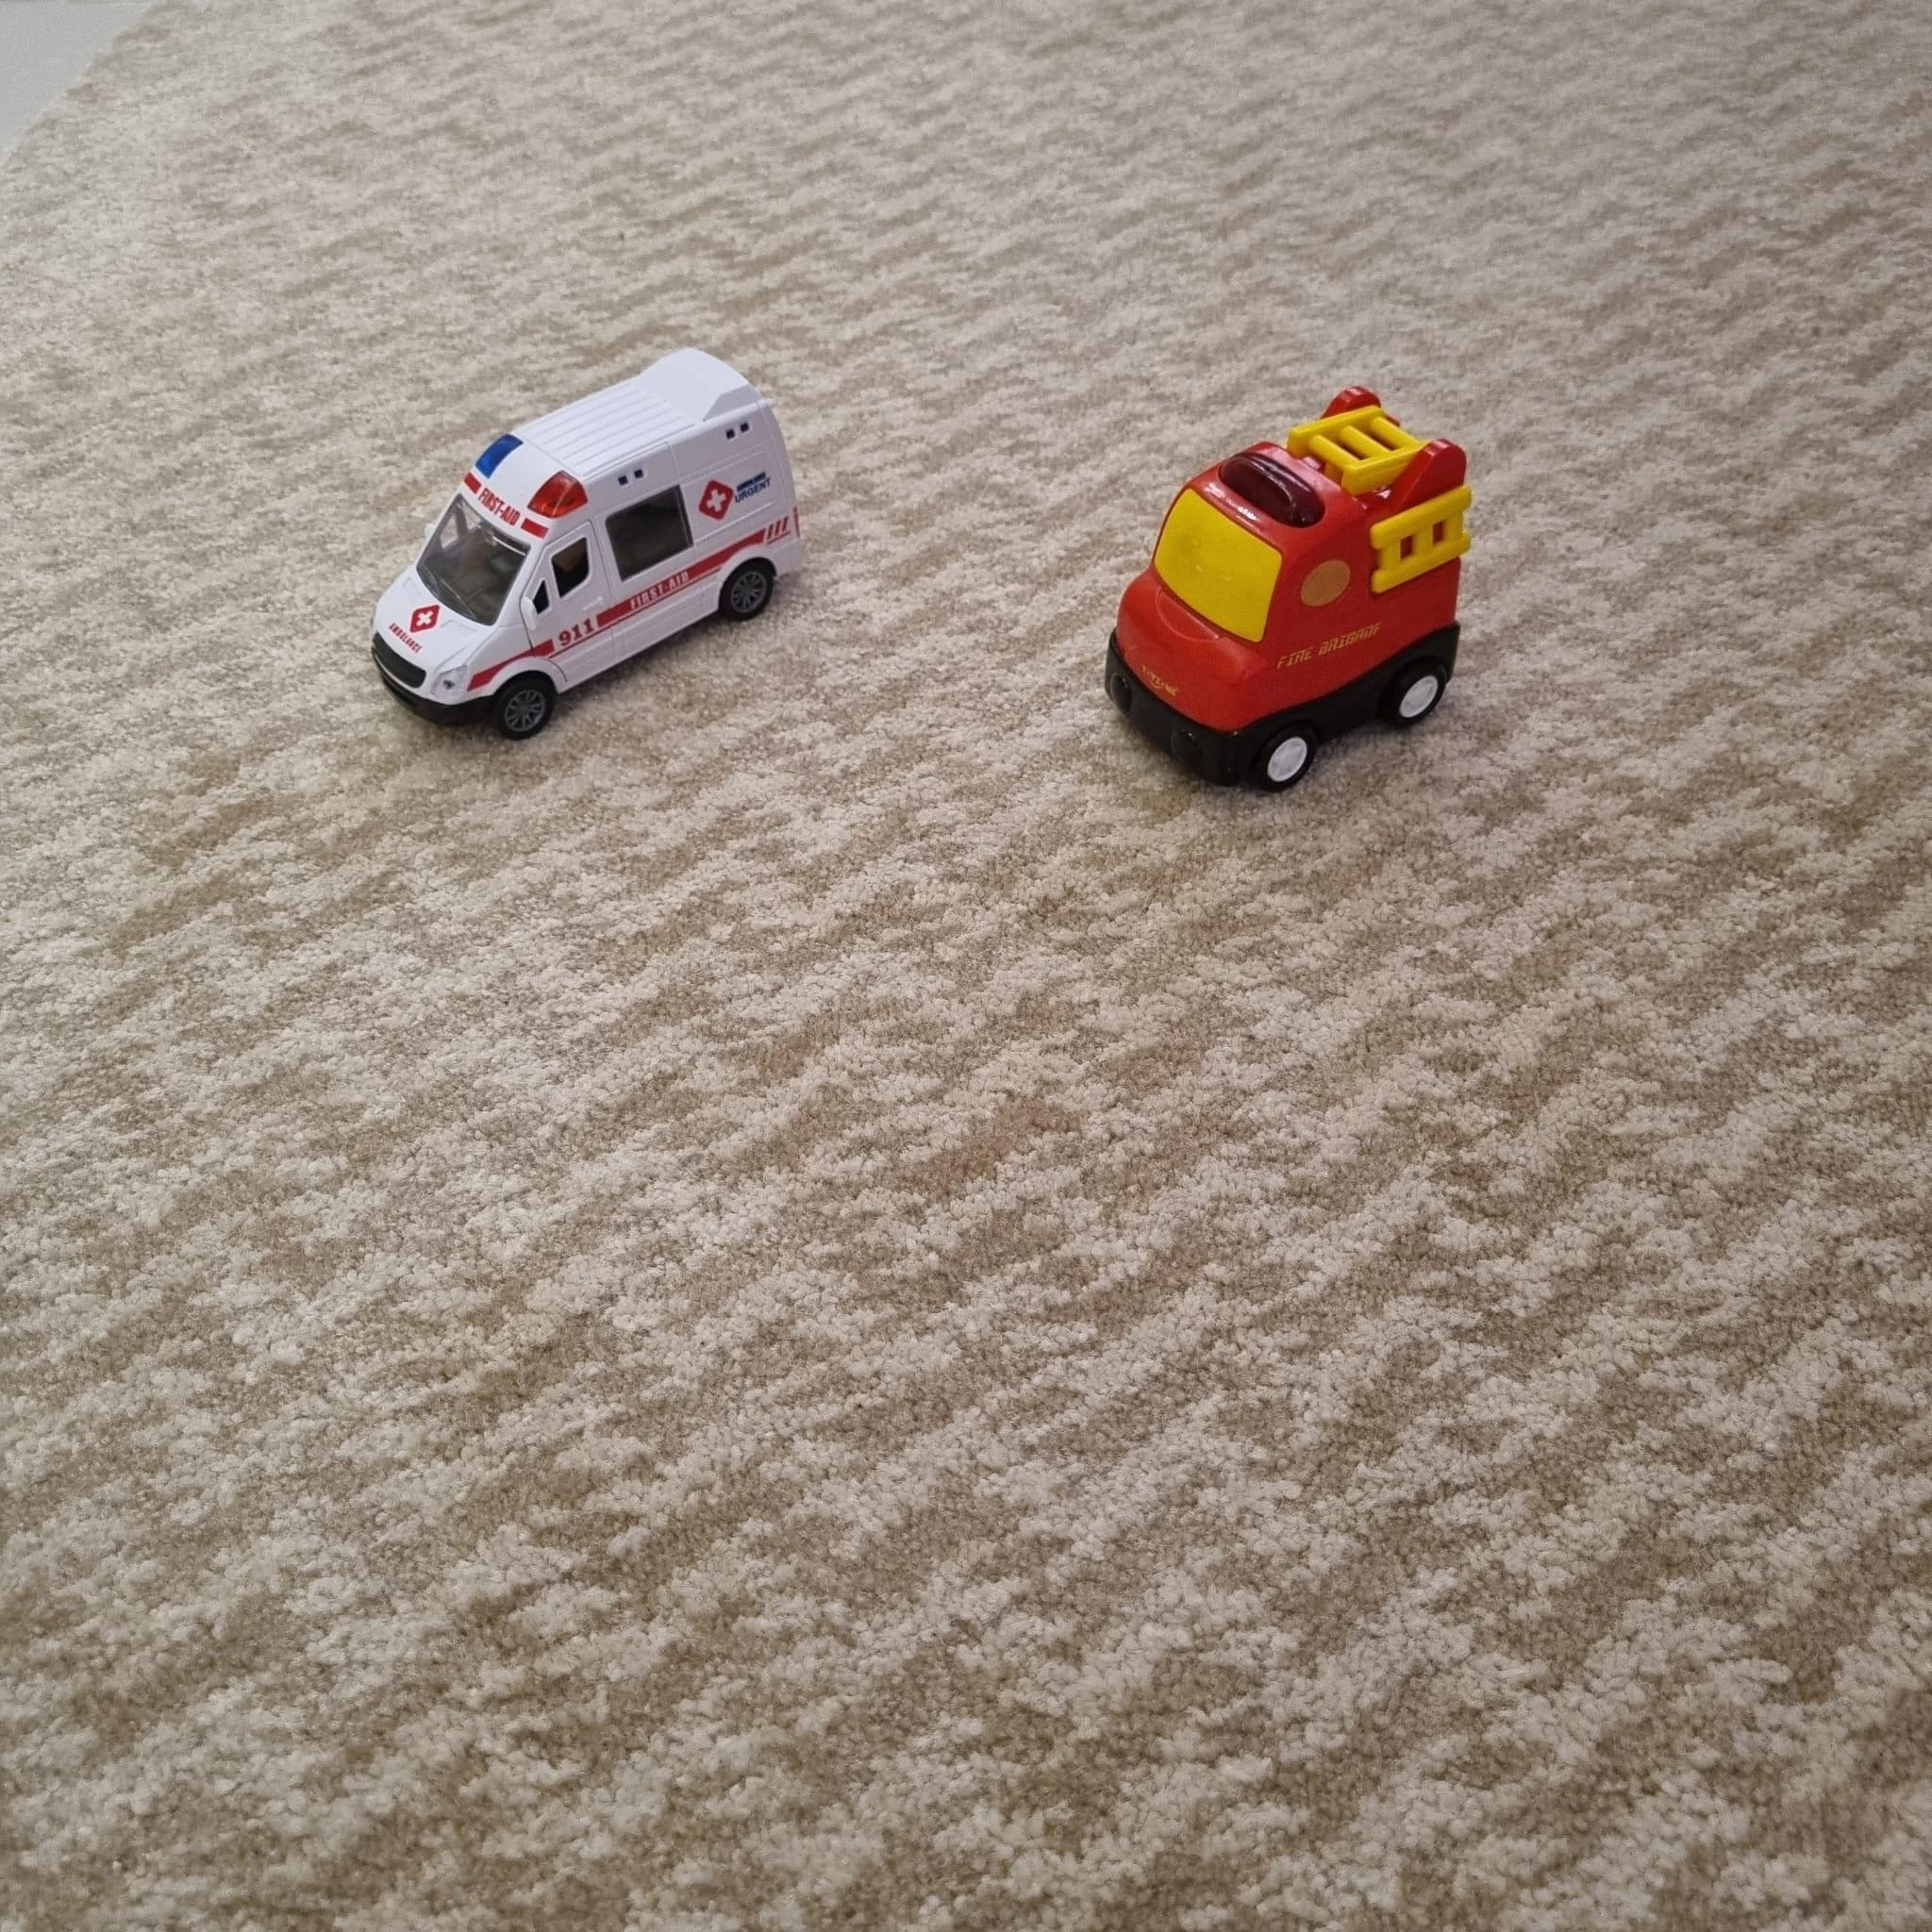ambulance_off: (368, 349, 800, 736)
firetruck_off: (1104, 387, 1470, 796)
